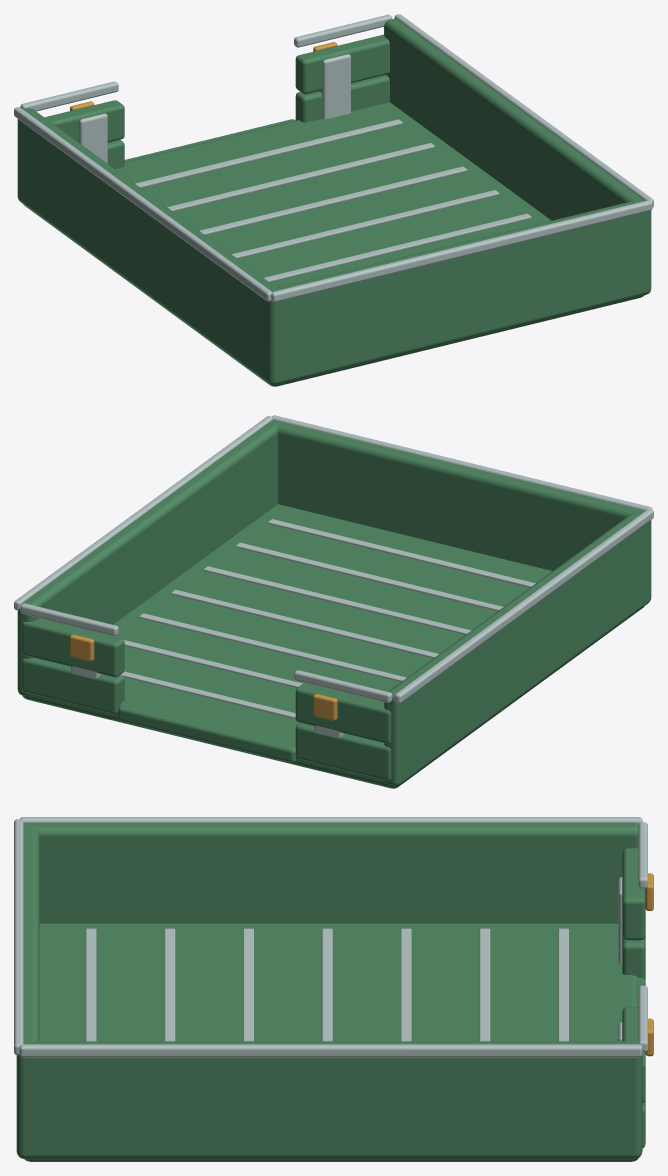
Rendered from chassis-metal-toolbox-light.glb.
3 views of the same model, one above another, from view 1: azimuth 30°, elevation 25°; view 2: azimuth 150°, elevation 25°; view 3: azimuth 270°, elevation 25° (orthographic). The views are drawn at different scales.
Visible parts, largest first — view 1: green, steel; view 2: green, steel, brass; view 3: green, steel, brass.
Boxes of the visible parts, left/top/right/bottom form: green: left=17, top=18, right=651, bottom=386; steel: left=14, top=14, right=653, bottom=302; green: left=17, top=420, right=651, bottom=788; steel: left=14, top=415, right=653, bottom=738; brass: left=70, top=634, right=337, bottom=720; green: left=16, top=822, right=645, bottom=1161; steel: left=14, top=817, right=647, bottom=1057; brass: left=645, top=873, right=653, bottom=1056.
Bounding box in the file's own units: 1.53 × 0.372 × 1.79.
